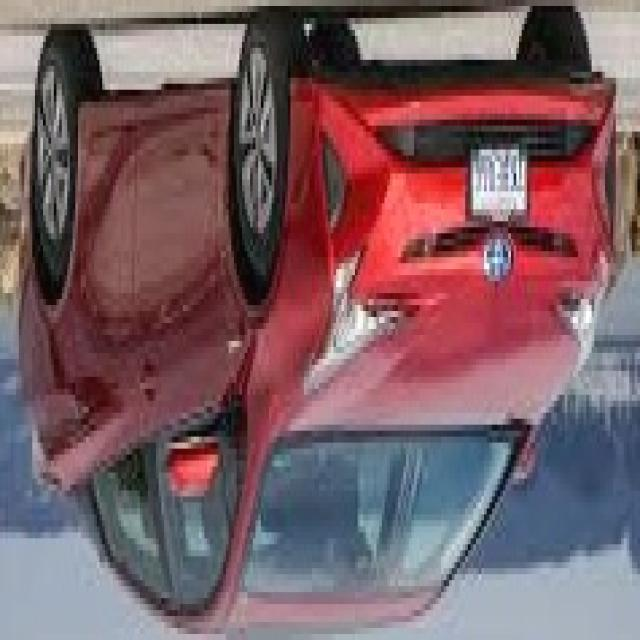red: (32, 48, 611, 640)
